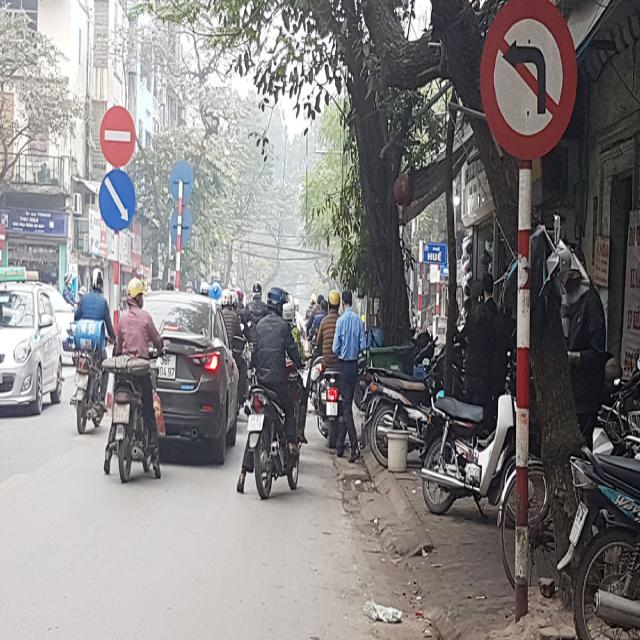Bien bao cam di nguoc chieu: (93, 98, 143, 169)
Bien bao cam re trai: (472, 0, 584, 171)
